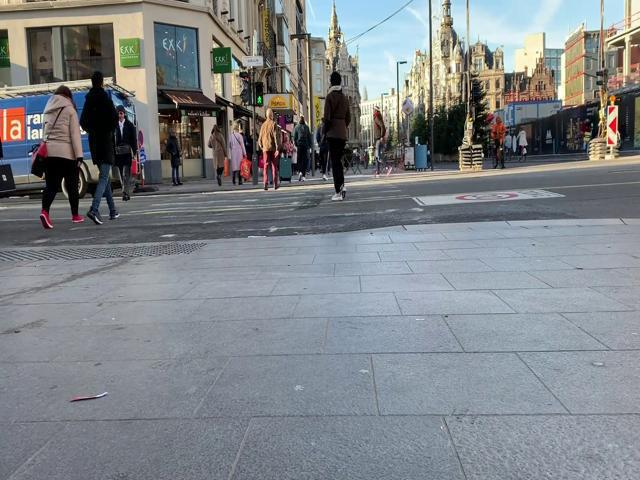shoe: (87, 208, 104, 224), (40, 211, 53, 228), (71, 214, 85, 223), (109, 211, 120, 219), (332, 193, 343, 201)
